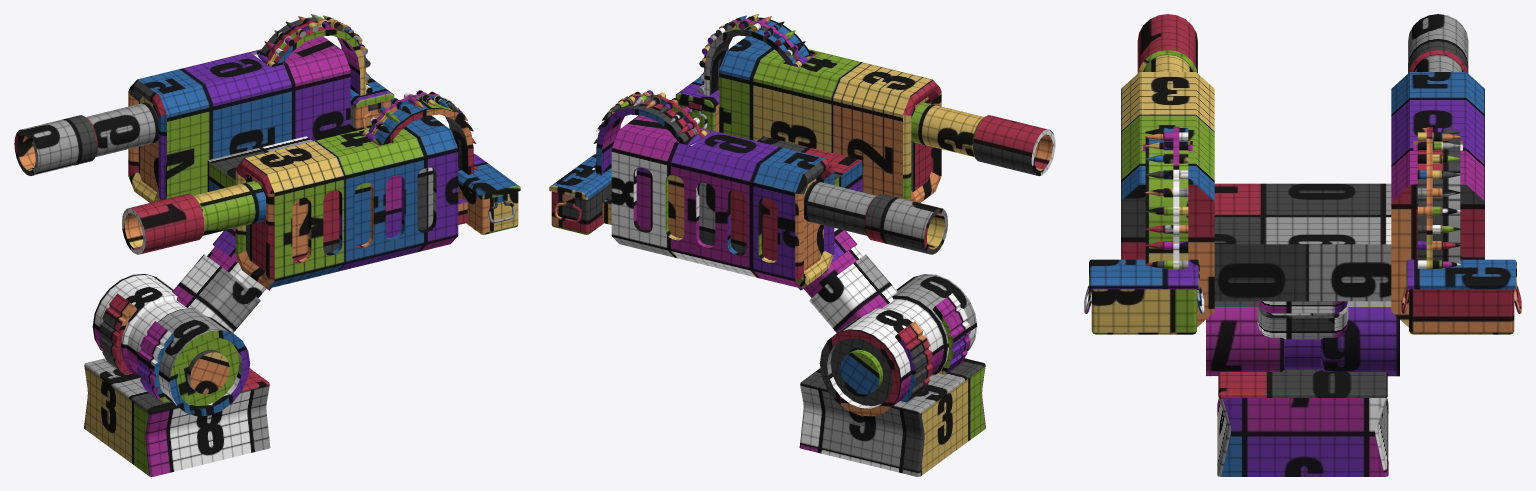
File: SM_Turret_Ground_Air_Lvl_02.fbx
3 renders of one model, left to right at view 1: azimuth 30°, elevation 25°; view 2: azimuth 150°, elevation 25°; view 3: azimuth 270°, elevation 25°, orthographic. The views are drawn at different scales.
Parts seen in each view (by area): view 1: SM_Gun_Turret_01, SM_Gun_Turret_03, SM_Turret_Body_Base_01, SM_Turret_Body_Pivot_01, SM_Turret_Body_Support_Turret_01, SM_Turret_Body_Protection_01, SM_Turret_Body_Protection_02, SM_Turret_Body_01; view 2: SM_Gun_Turret_03, SM_Gun_Turret_01, SM_Turret_Body_Base_01, SM_Turret_Body_Pivot_01, SM_Turret_Body_Support_Turret_01, SM_Turret_Body_Protection_02, SM_Turret_Body_Protection_01, SM_Turret_Body_01; view 3: SM_Gun_Turret_01, SM_Gun_Turret_03, SM_Turret_Body_01, SM_Turret_Body_Base_01, SM_Turret_Body_Pivot_01, SM_Turret_Body_Support_Turret_01.
Boxes of the visible parts, <box> form: SM_Gun_Turret_01: <box>122,90,520,288</box>; SM_Gun_Turret_03: <box>14,14,394,202</box>; SM_Turret_Body_Base_01: <box>84,358,270,476</box>; SM_Turret_Body_Pivot_01: <box>92,274,250,416</box>; SM_Turret_Body_Support_Turret_01: <box>172,228,271,332</box>; SM_Turret_Body_Protection_01: <box>99,293,137,374</box>; SM_Turret_Body_Protection_02: <box>137,321,174,402</box>; SM_Turret_Body_01: <box>207,136,312,191</box>; SM_Gun_Turret_03: <box>549,90,947,288</box>; SM_Gun_Turret_01: <box>675,14,1055,202</box>; SM_Turret_Body_Base_01: <box>799,358,985,476</box>; SM_Turret_Body_Pivot_01: <box>819,274,977,416</box>; SM_Turret_Body_Support_Turret_01: <box>798,228,897,332</box>; SM_Turret_Body_Protection_02: <box>932,293,970,374</box>; SM_Turret_Body_Protection_01: <box>895,321,932,402</box>; SM_Turret_Body_01: <box>757,136,862,191</box>; SM_Gun_Turret_01: <box>1084,14,1214,334</box>; SM_Gun_Turret_03: <box>1391,14,1521,334</box>; SM_Turret_Body_01: <box>1214,183,1391,301</box>; SM_Turret_Body_Base_01: <box>1217,369,1388,476</box>; SM_Turret_Body_Pivot_01: <box>1206,301,1399,376</box>; SM_Turret_Body_Support_Turret_01: <box>1257,301,1348,339</box>.
Bounding box in the file's own units: 246 × 221 × 208.
Materials: 1 (1 with a texture image).
